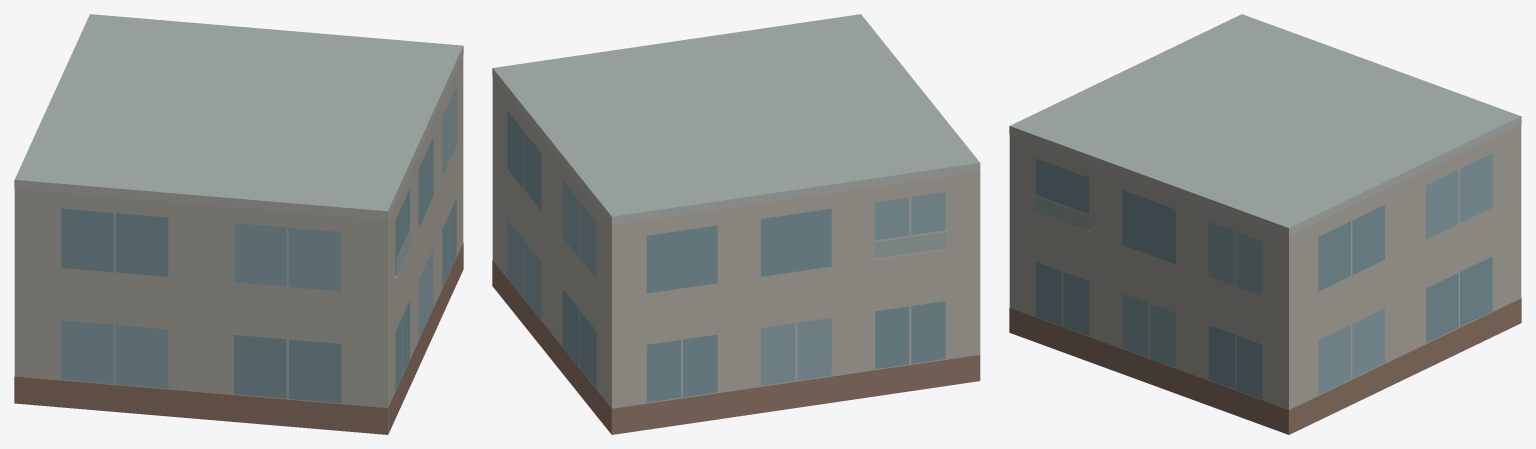
Rendered from survey-upis-32714891.glb.
3 views of the same model, side by side, from view 1: azimuth 30°, elevation 25°; view 2: azimuth 150°, elevation 25°; view 3: azimuth 270°, elevation 25° (orthographic). The views are drawn at different scales.
Parts seen in each view (by area): view 1: survey-upis-32714891.tmp; view 2: survey-upis-32714891.tmp; view 3: survey-upis-32714891.tmp.
Boxes of the visible parts, left/top/right/bottom form: survey-upis-32714891.tmp: left=14, top=14, right=463, bottom=434; survey-upis-32714891.tmp: left=492, top=14, right=980, bottom=434; survey-upis-32714891.tmp: left=1009, top=14, right=1521, bottom=434.
Bounding box in the file's own units: 13.55 × 6.1 × 13.69.
